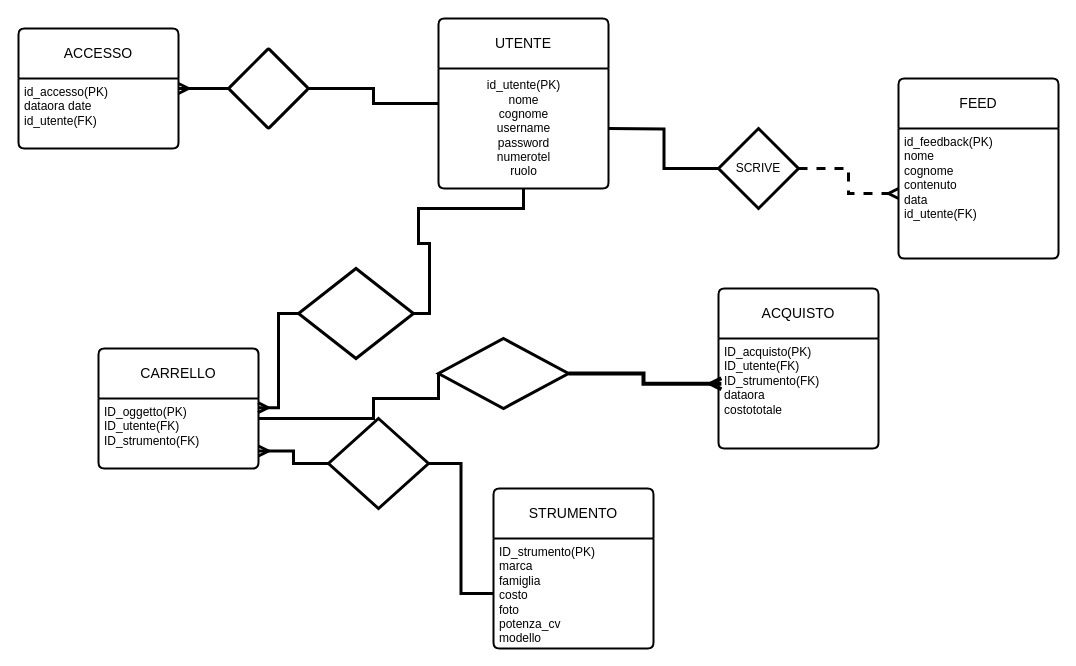
The diagram is 1076 pixels wide and 666 high, and some of its shapes have lost their labels. The shapes that lost their labels are listed below. From the top down, each one's centre as x and y in pixels, then its label:
the point at 268,88: SVOLGE
the point at 355,313: INSERISCE OGGETTO
the point at 503,373: VIENE SPOSTATO
the point at 378,463: VIENE AGGIUNTO
